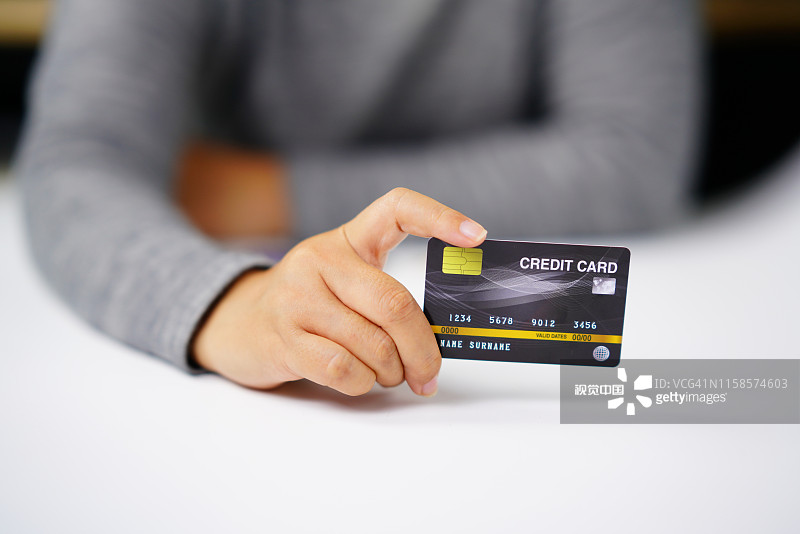no-phone: (193, 175, 500, 424)
